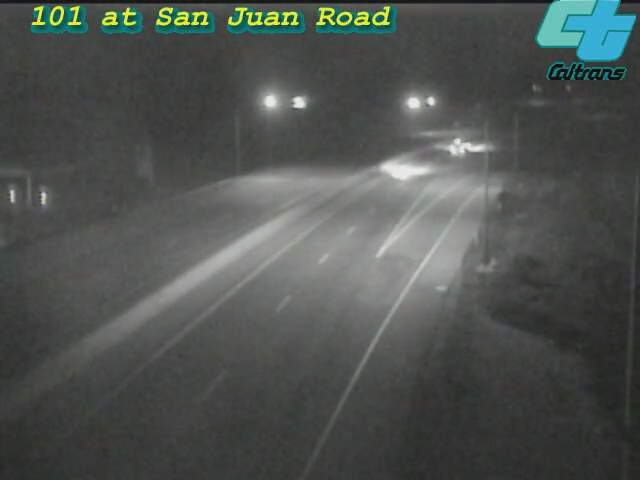vehicle: (360, 132, 440, 212), (438, 118, 488, 168)
